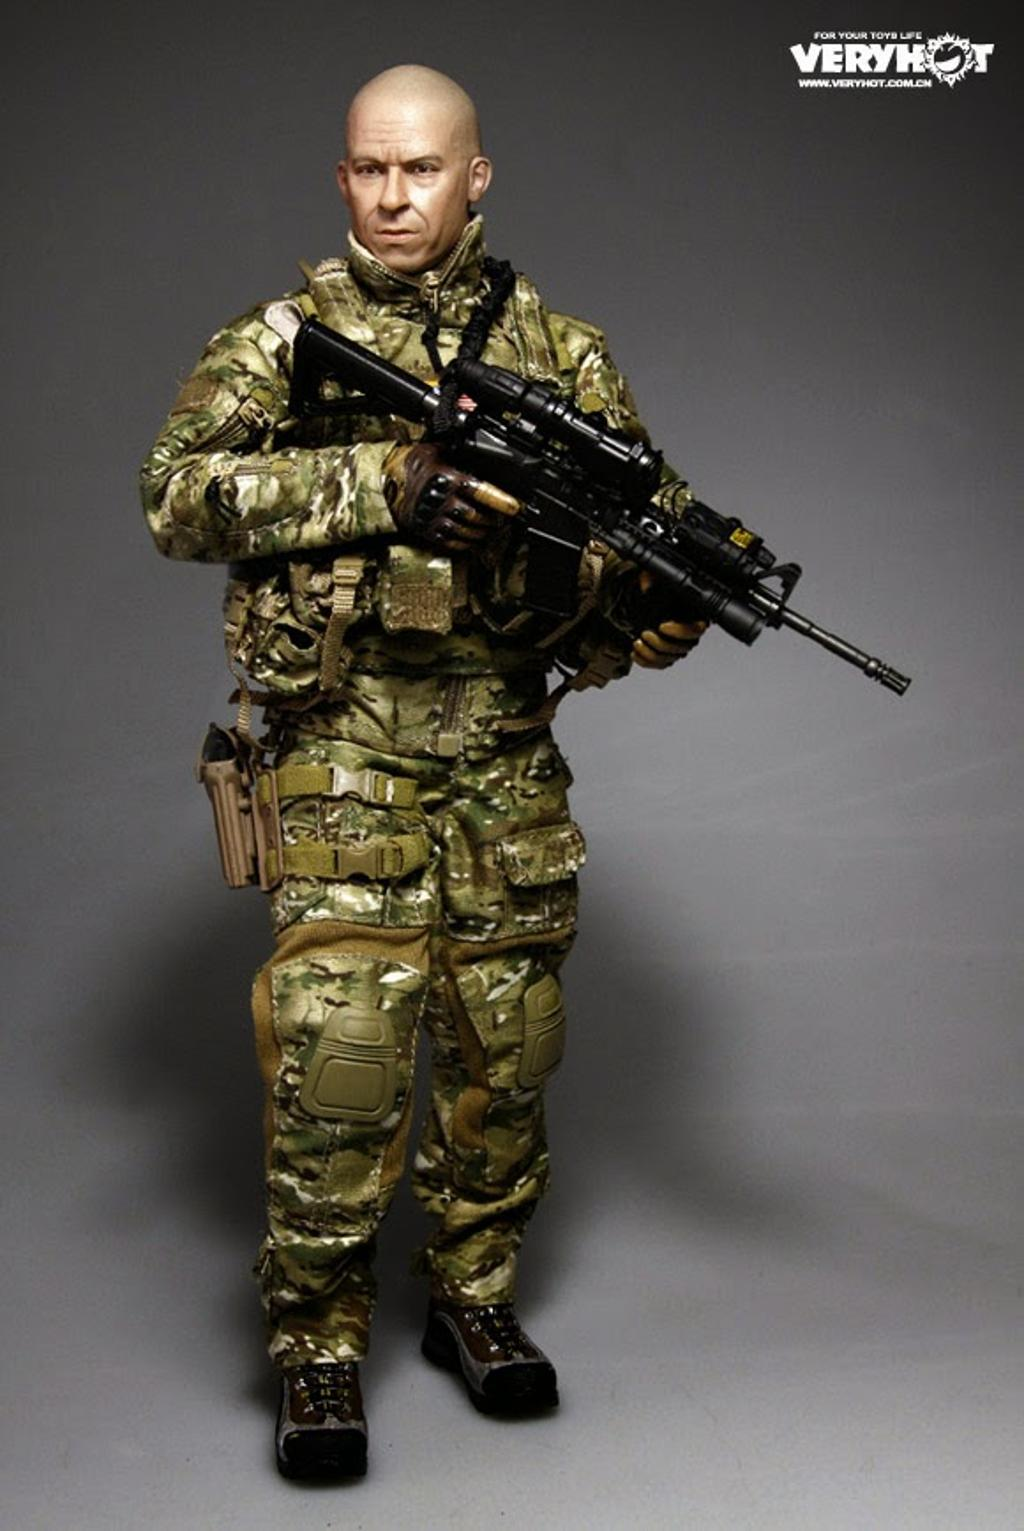face: (347, 91, 472, 264)
